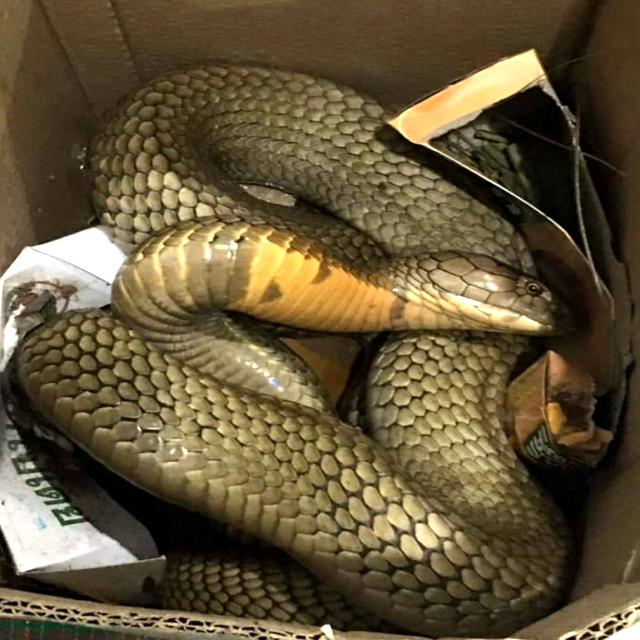Ophiophagus hannah: (15, 65, 571, 637)
